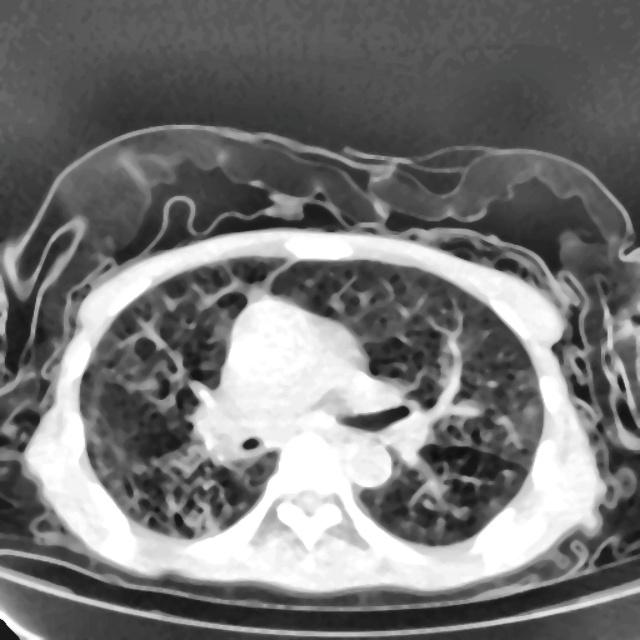covid: (24, 225, 606, 593)
